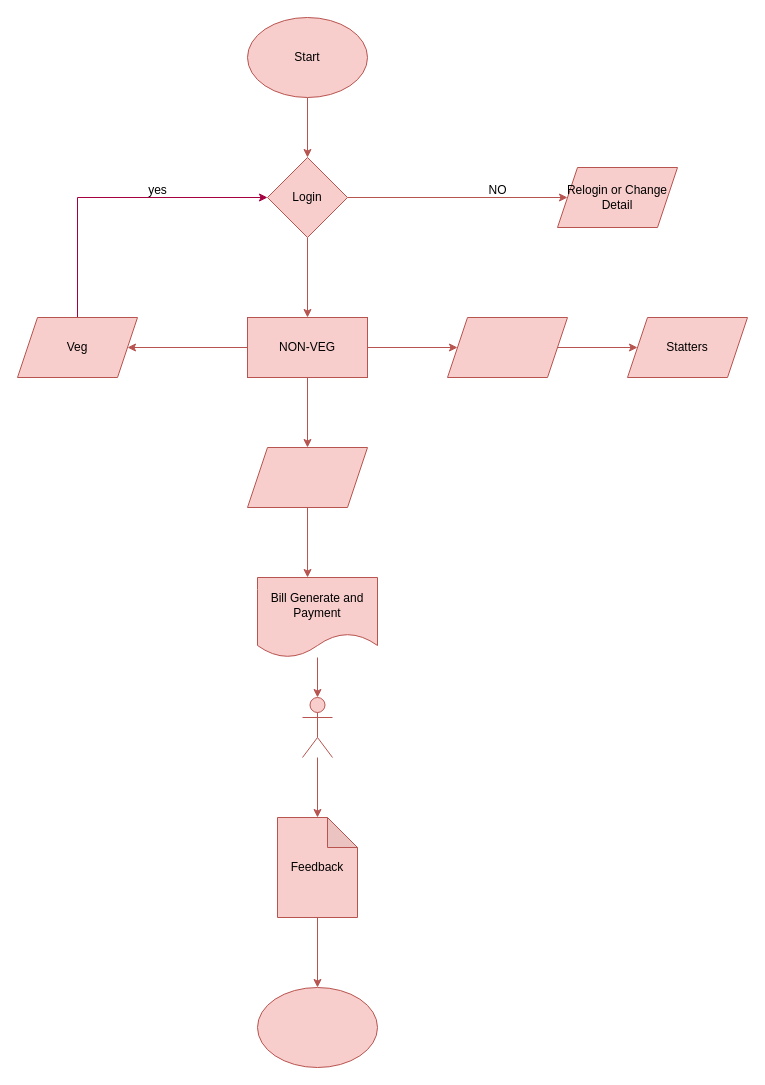
This 765x1085 diagram has some shape labels left out. Each missing label, with the centre of its shape:
"Actor" goes at pixel 317 727.
"Close" goes at pixel 317 1027.
"Order" goes at pixel 307 477.
"Tiffins" goes at pixel 507 347.
